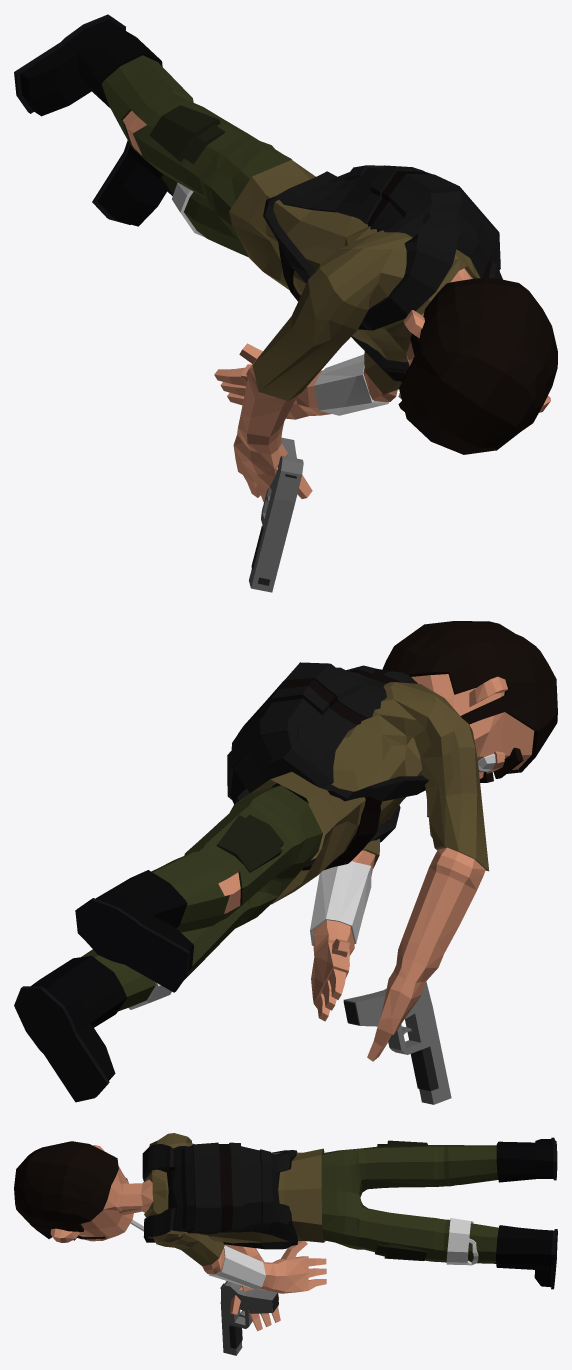
File: frame_0001.obj
3 views of the same model, one above another, from view 1: azimuth 30°, elevation 25°; view 2: azimuth 150°, elevation 25°; view 3: azimuth 270°, elevation 25° (orthographic). The views are drawn at different scales.
Visible parts, largest first — view 1: Body, Gun; view 2: Body, Gun; view 3: Body, Gun.
Boxes of the visible parts, left/top/right/bottom form: Body: left=14, top=14, right=557, bottom=501; Gun: left=249, top=437, right=303, bottom=592; Body: left=14, top=621, right=557, bottom=1102; Gun: left=343, top=981, right=451, bottom=1104; Body: left=14, top=1133, right=557, bottom=1331; Gun: left=220, top=1281, right=278, bottom=1355.
Bounding box in the file's own units: 1.35 × 2.12 × 4.15.
